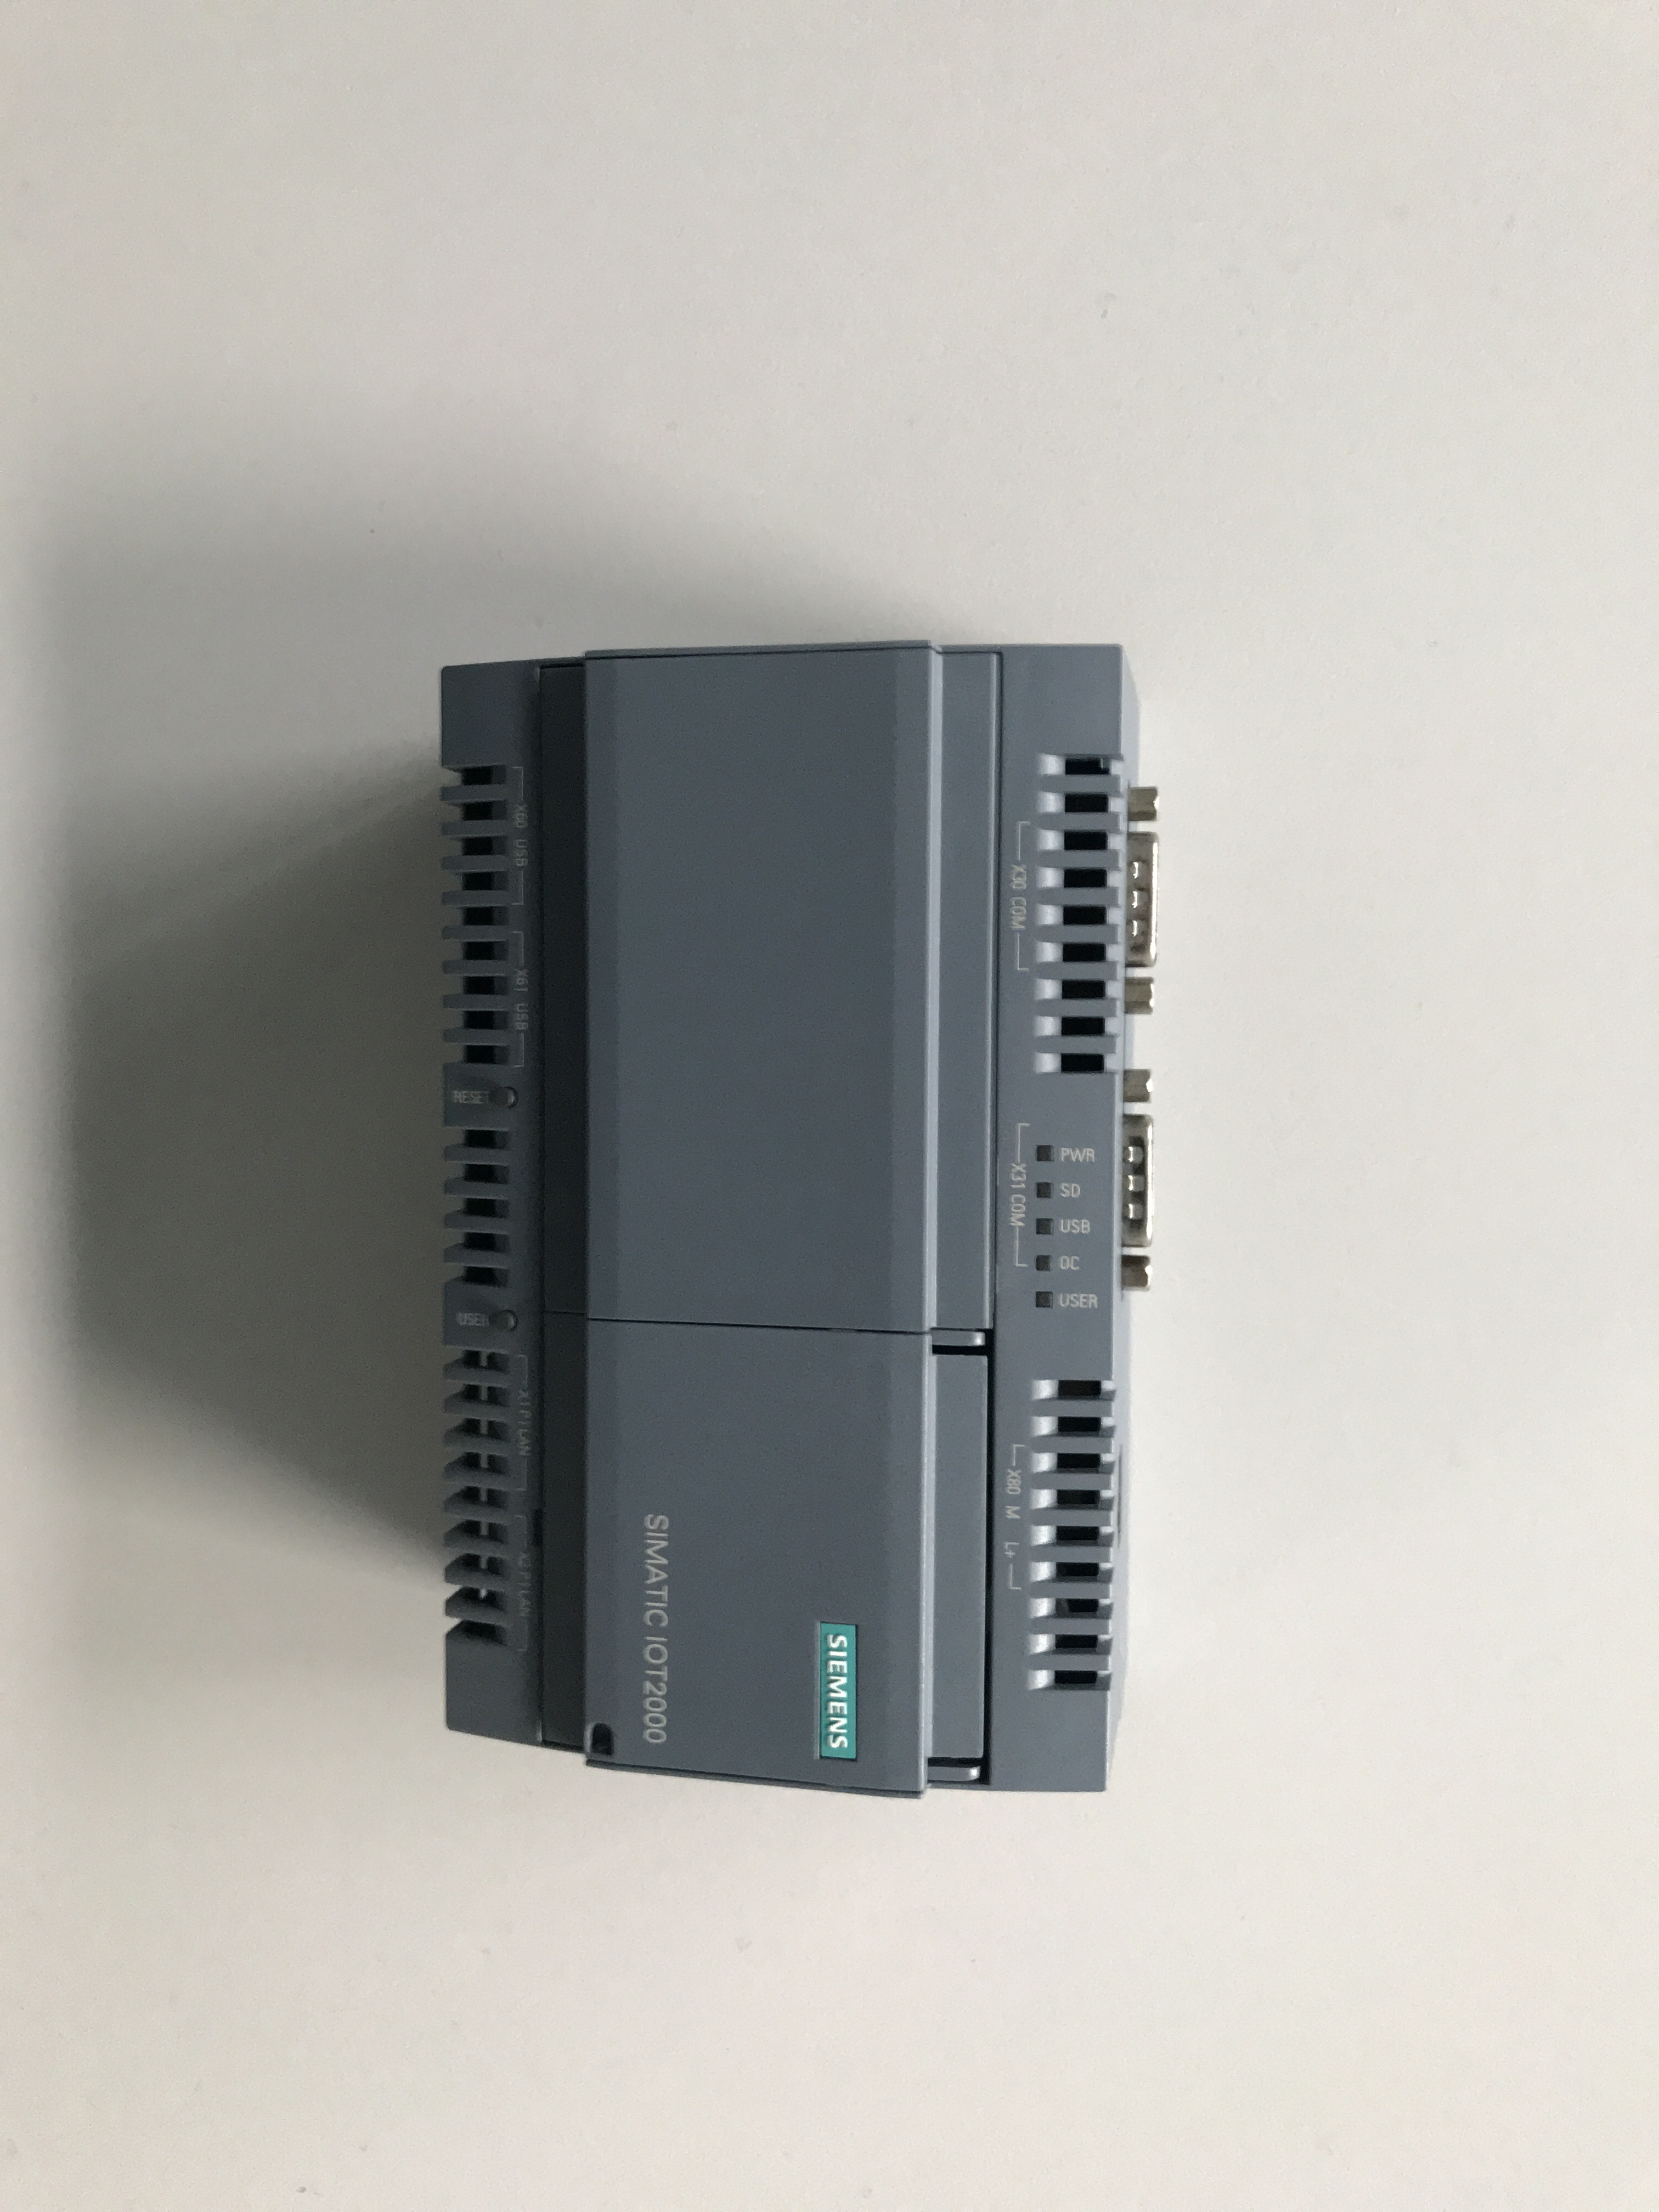device: (439, 641, 1161, 1801)
